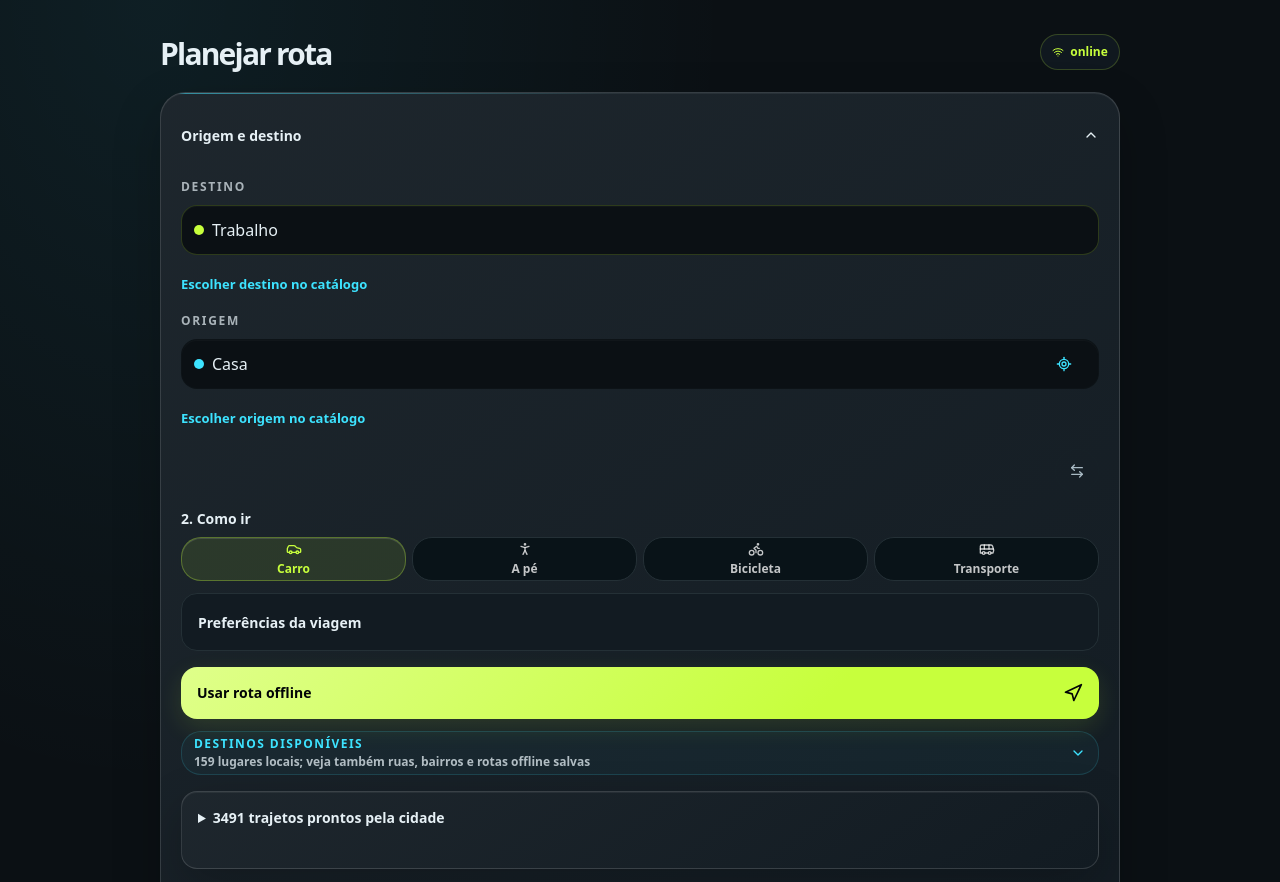
Test: Planner travel state › identifies a restored estimate without promising street directions
This screenshot has width=1280, height=882.
Click the button with test id "planner-primary-action": [254, 692] box [181, 667, 1099, 719]
(page scrolled)
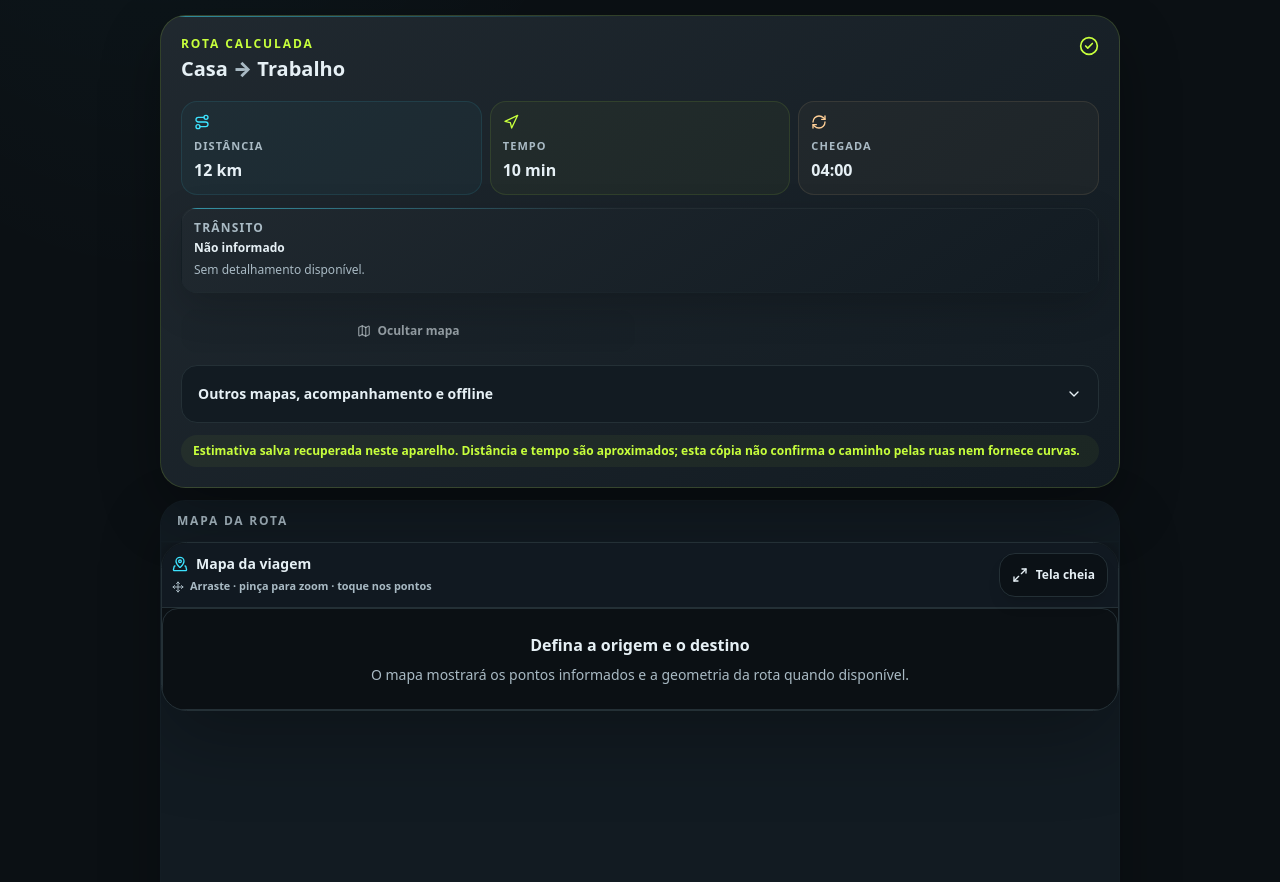
Result: the text "Estimativa salva recuperada neste aparelho" is shown at [193, 442, 1080, 458]
